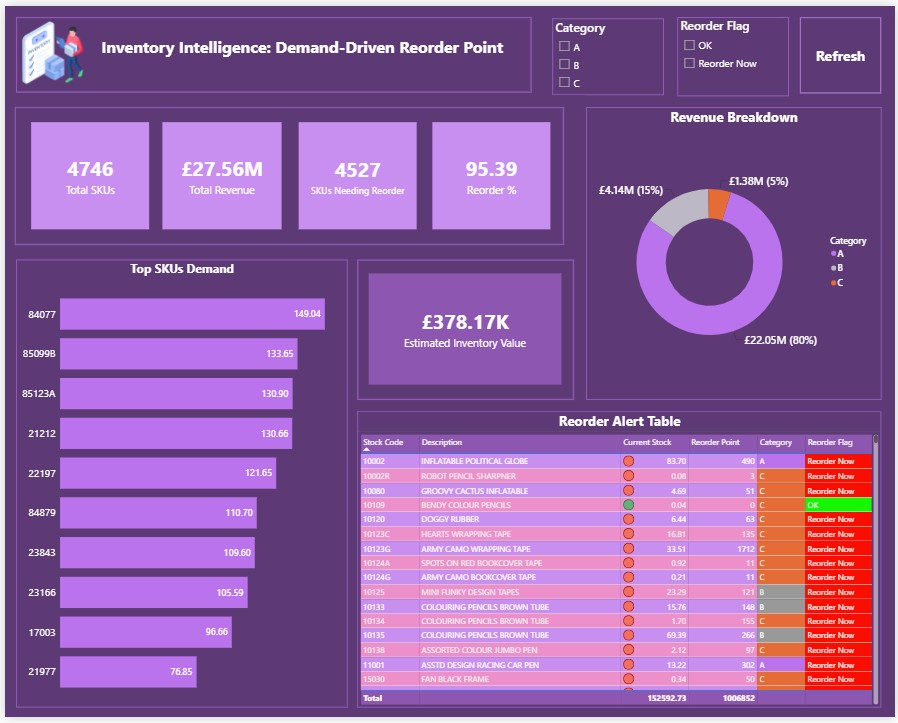

The page's visual inventory and layout, read from the dashboard file:
{"tool":"powerbi","page":{"name":"Page 1","canvas":[1781,1423],"ordinal":0},"visuals":[{"type":"cardVisual","fields":{"Data":["Measure List.Reorder %"]},"box":[850,228,246,224],"z":0},{"type":"cardVisual","fields":{"Data":["Measure List.Total Revenue"]},"box":[310,228,248,224],"z":1000},{"type":"cardVisual","fields":{"Data":["Measure List.SKUs Needing Reorder"]},"box":[582,228,246,224],"z":2000},{"type":"cardVisual","fields":{"Data":["Measure List.Total SKUs"]},"box":[48,228,246,224],"z":3000},{"type":"tableEx","title":"Reorder Alert Table ","fields":{"Values":["final_inventory_with_abc.StockCode","final_inventory_with_abc.Description","Sum(final_inventory_with_abc.CurrentStock)","Sum(final_inventory_with_abc.ReorderPoint)","final_inventory_with_abc.ABC_Category","final_inventory_with_abc.ReorderFlag"]},"box":[705,810,1047.5,592.5],"z":4000},{"type":"donutChart","title":"Revenue Breakdown","fields":{"Y":["Measure List.Total Revenue"],"Category":["final_inventory_with_abc.ABC_Category"]},"box":[1162.5,202.5,590,585],"z":5000},{"type":"clusteredBarChart","title":"Top SKUs Demand ","fields":{"Category":["final_inventory_with_abc.StockCode"],"Y":["Sum(final_inventory_with_abc.AvgDailyDemand)"]},"box":[22.5,507.5,662.5,895],"z":6000},{"type":"textbox","box":[188,56,830,78],"z":7000},{"type":"slicer","title":"Reorder Flag","fields":{"Values":["final_inventory_with_abc.ReorderFlag"]},"box":[1345,22.5,222.5,157.5],"z":8000},{"type":"slicer","title":"Category","fields":{"Values":["final_inventory_with_abc.ABC_Category"]},"box":[1095,25,222.5,152.5],"z":9000},{"type":"shape","box":[1590,22.5,162.5,152.5],"z":10000},{"type":"image","box":[20,30,150,126],"z":11000},{"type":"shape","box":[20,202.5,1097.5,275],"z":12000},{"type":"shape","box":[22.5,22.5,1030,150],"z":13000},{"type":"cardVisual","fields":{"Data":["Measure List.Total Inventory"]},"box":[722.5,530,395,232.5],"z":14000},{"type":"shape","box":[705,507.5,432.5,280],"z":15000}]}

Visuals, with their boxes in screenshot pixels (x1, y1, x2, y2), scaled from the page's 1781x1423 canvas onto the 898x723 screenshot:
cardVisual - Measure List.Reorder %: bbox(429, 116, 553, 230)
cardVisual - Measure List.Total Revenue: bbox(156, 116, 281, 230)
cardVisual - Measure List.SKUs Needing Reorder: bbox(293, 116, 417, 230)
cardVisual - Measure List.Total SKUs: bbox(24, 116, 148, 230)
"Reorder Alert Table " tableEx: bbox(355, 412, 884, 713)
"Revenue Breakdown" donutChart: bbox(586, 103, 884, 400)
"Top SKUs Demand " clusteredBarChart: bbox(11, 258, 345, 713)
textbox: bbox(95, 28, 513, 68)
"Reorder Flag" slicer: bbox(678, 11, 790, 91)
"Category" slicer: bbox(552, 13, 664, 90)
shape: bbox(802, 11, 884, 89)
image: bbox(10, 15, 86, 79)
shape: bbox(10, 103, 563, 243)
shape: bbox(11, 11, 531, 88)
cardVisual - Measure List.Total Inventory: bbox(364, 269, 563, 387)
shape: bbox(355, 258, 574, 400)
